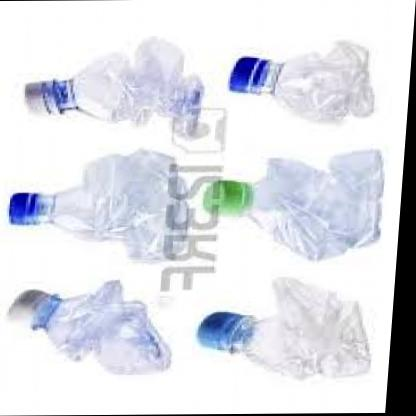Plastic: (195, 268, 386, 390), (0, 147, 201, 257), (200, 147, 394, 260), (11, 40, 218, 139), (11, 278, 186, 384), (222, 34, 391, 128)
